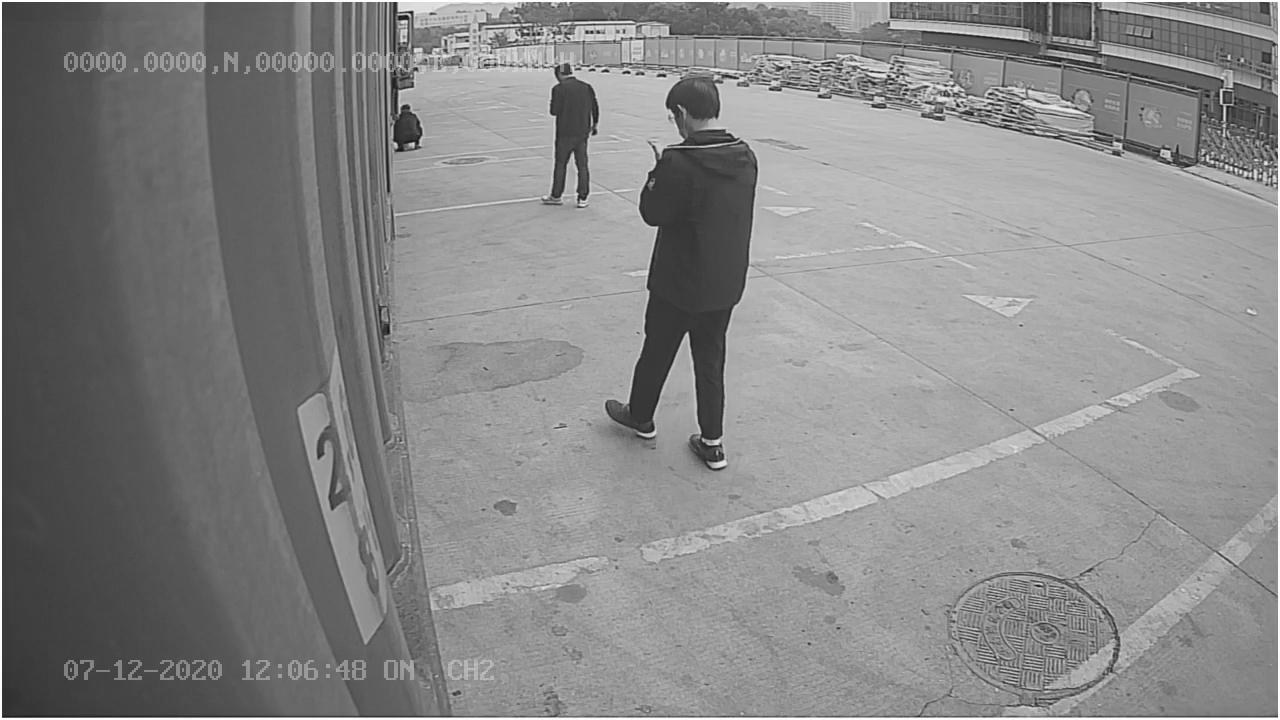person: (605, 62, 759, 469)
